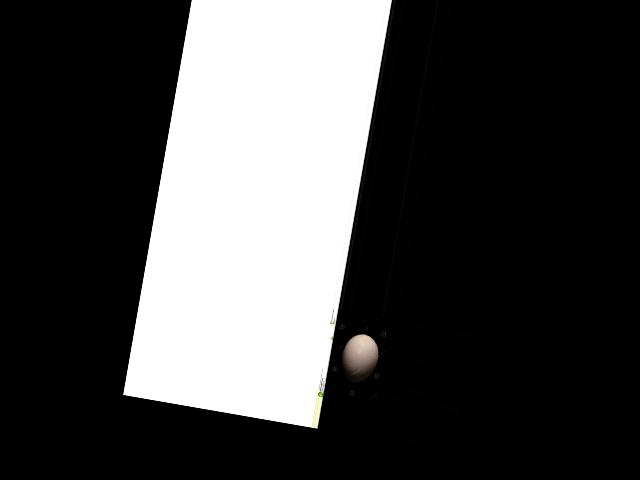egg: (337, 330, 381, 385)
